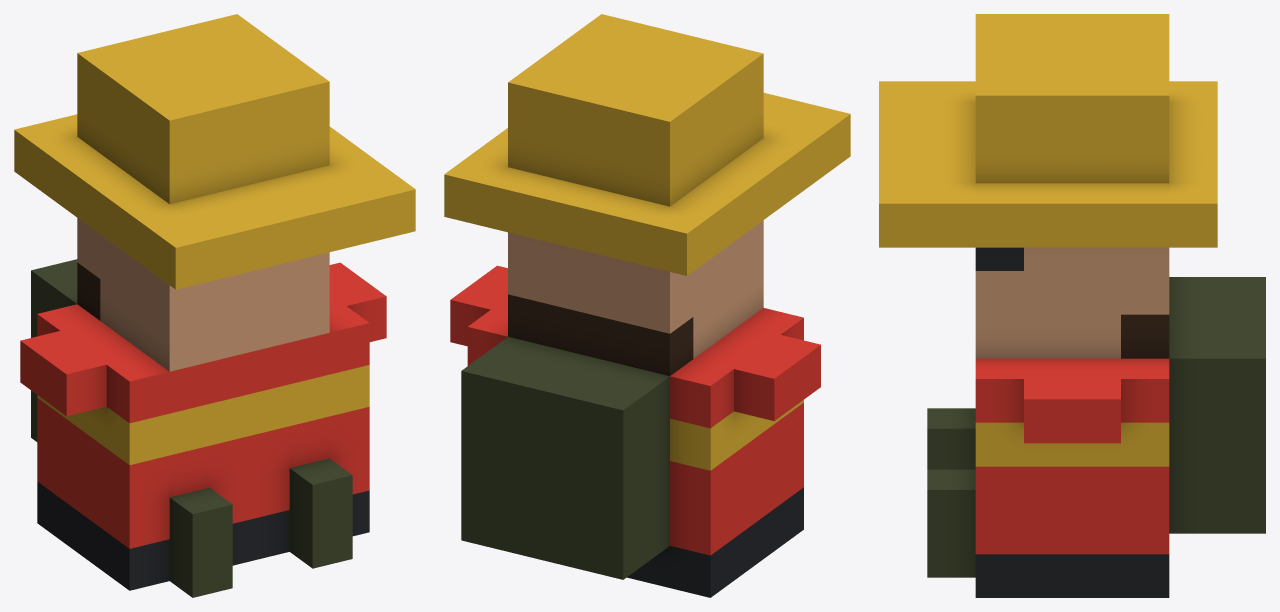
Rendered from cm_engineer_t_0.glb.
3 renders of one model, left to right at view 1: azimuth 30°, elevation 25°; view 2: azimuth 150°, elevation 25°; view 3: azimuth 270°, elevation 25°, orthographic. The views are drawn at different scales.
Parts seen in each view (by area): view 1: cm_engineer_t_0_body; view 2: cm_engineer_t_0_body; view 3: cm_engineer_t_0_body.
Boxes of the visible parts, left/top/right/bottom form: cm_engineer_t_0_body: left=14, top=14, right=415, bottom=597; cm_engineer_t_0_body: left=444, top=14, right=850, bottom=597; cm_engineer_t_0_body: left=879, top=14, right=1265, bottom=597.
Bounding box in the file's own units: 0.5 × 0.6875 × 0.5.
1 material, 1 textured.
